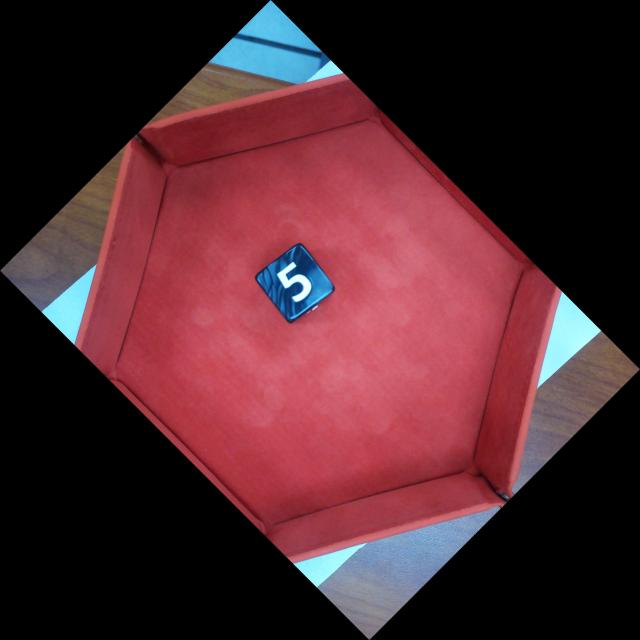dice: (263, 246, 332, 319)
